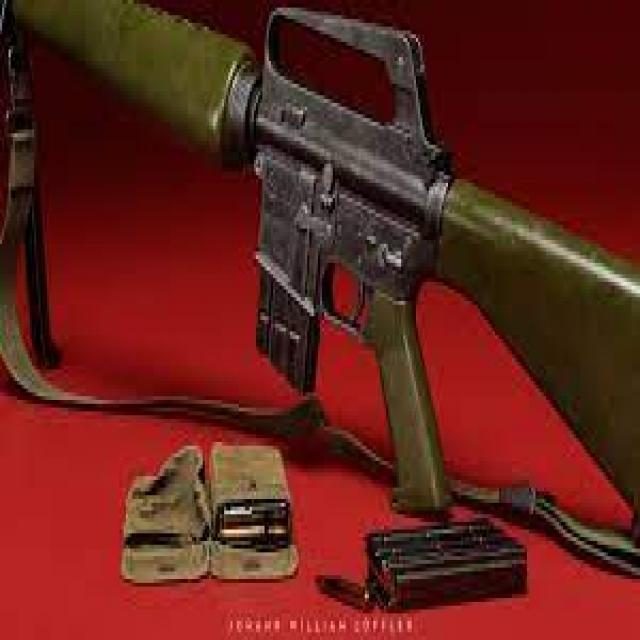m16: (6, 3, 626, 587)
